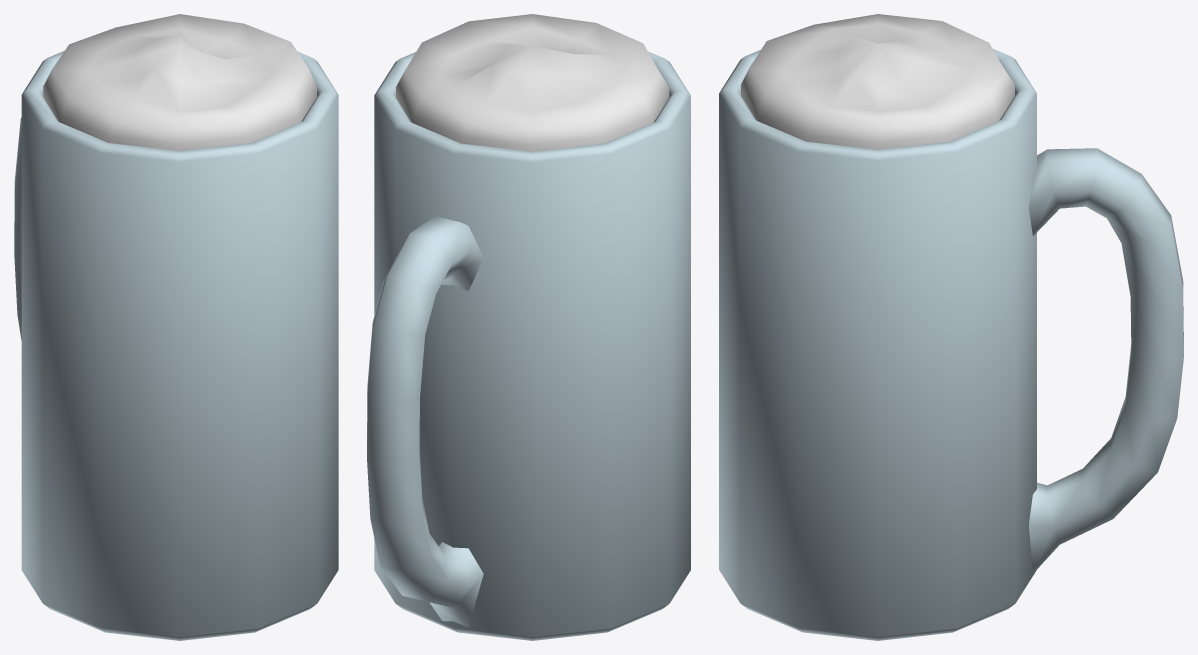
File: BeerGlass.fbx
3 views of the same model, side by side, from view 1: azimuth 30°, elevation 25°; view 2: azimuth 150°, elevation 25°; view 3: azimuth 270°, elevation 25° (orthographic).
Visible parts, largest first — view 1: Cylinder.016; view 2: Cylinder.016; view 3: Cylinder.016.
Boxes of the visible parts, x1,y1,x2,y2 form: Cylinder.016: [14, 14, 338, 640]; Cylinder.016: [367, 14, 690, 640]; Cylinder.016: [719, 14, 1183, 640].
Size of the model in its own units: 18.35 by 33.97 by 26.83.
